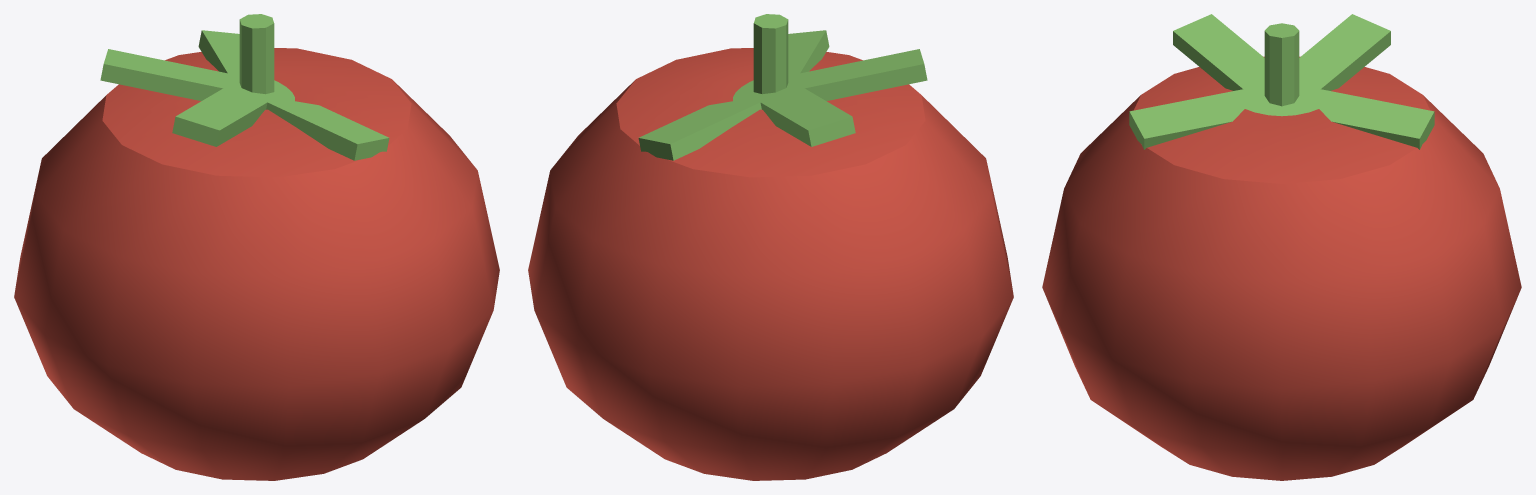
The model's file is kr_tomato.glb.
3 renders of one model, left to right at view 1: azimuth 30°, elevation 25°; view 2: azimuth 150°, elevation 25°; view 3: azimuth 270°, elevation 25°, orthographic. The views are drawn at different scales.
Visible parts, largest first — view 1: vc_m0_r2, vc_m0_r6; view 2: vc_m0_r2, vc_m0_r6; view 3: vc_m0_r2, vc_m0_r6.
Boxes of the visible parts, x1,y1,x2,y2 form: vc_m0_r2: (14,48,499,480); vc_m0_r6: (100,14,389,160); vc_m0_r2: (528,48,1013,480); vc_m0_r6: (638,14,927,160); vc_m0_r2: (1042,56,1521,480); vc_m0_r6: (1129,14,1434,149).
Size of the model in its own units: 0.22 by 0.2 by 0.22.
